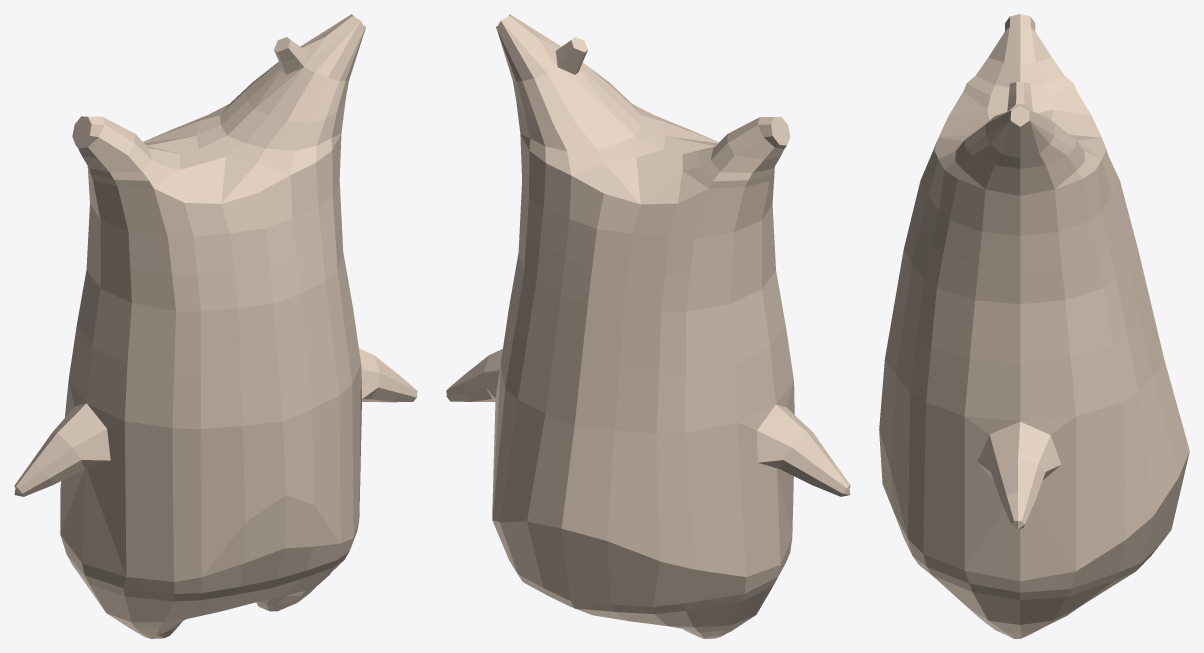
Rendered from frame_0001.obj.
3 renders of one model, left to right at view 1: azimuth 30°, elevation 25°; view 2: azimuth 150°, elevation 25°; view 3: azimuth 270°, elevation 25°, orthographic.
Parts seen in each view (by area): view 1: korok; view 2: korok; view 3: korok.
Part boxes in pixels (x1,y1,x2,y2): korok: (14, 14, 417, 638); korok: (446, 14, 850, 638); korok: (879, 14, 1189, 638).
Size of the model in its own units: 1.59 by 2.16 by 1.07.
